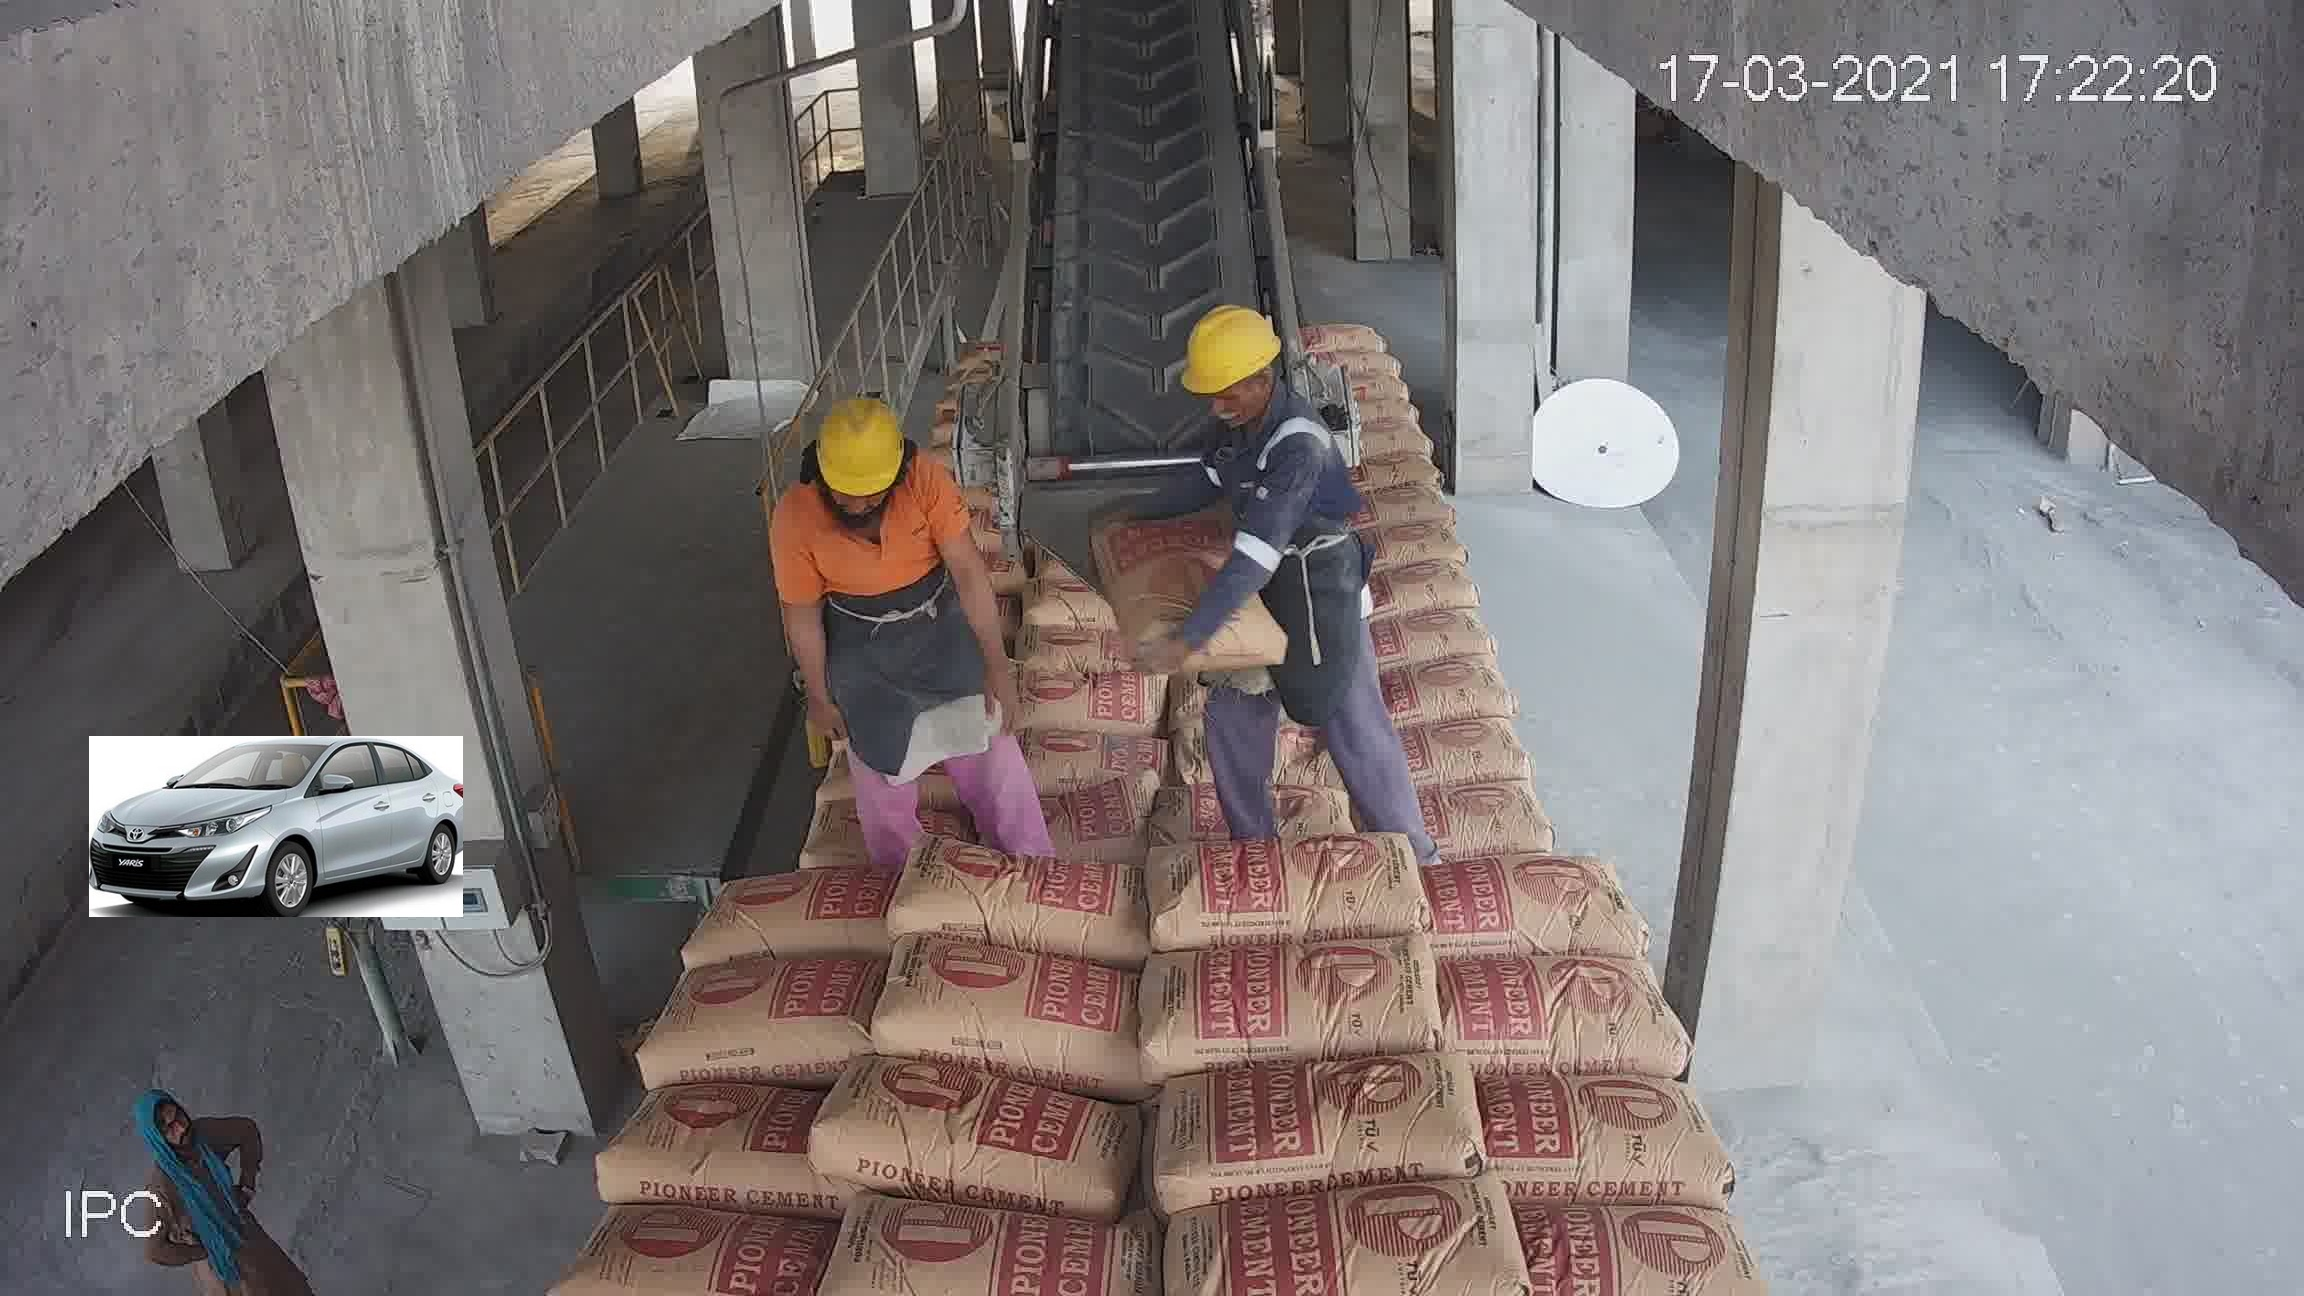bag: (1051, 426, 1245, 557), (1093, 74, 1204, 172)
bag_h: (1136, 1048, 1510, 1217), (1109, 937, 1461, 1092), (1152, 1185, 1537, 1296), (1130, 829, 1427, 959), (1135, 726, 1397, 856), (1472, 1063, 1711, 1206), (859, 957, 1135, 1081), (812, 1097, 1139, 1199), (630, 946, 870, 1079), (584, 1079, 821, 1206), (1457, 943, 1693, 1062), (870, 850, 1150, 948), (673, 859, 899, 972), (815, 1215, 1130, 1296), (1391, 853, 1643, 945), (1510, 1214, 1783, 1296), (1393, 752, 1586, 851), (1147, 658, 1362, 745), (904, 771, 1135, 850), (548, 1225, 824, 1290), (929, 680, 1150, 756), (771, 682, 929, 782), (745, 771, 911, 862), (1396, 688, 1570, 758), (824, 616, 976, 673), (1059, 567, 1166, 631), (1158, 612, 1247, 684), (1169, 585, 1290, 638), (1188, 524, 1290, 578)
belt: (1036, 2, 1290, 441)
